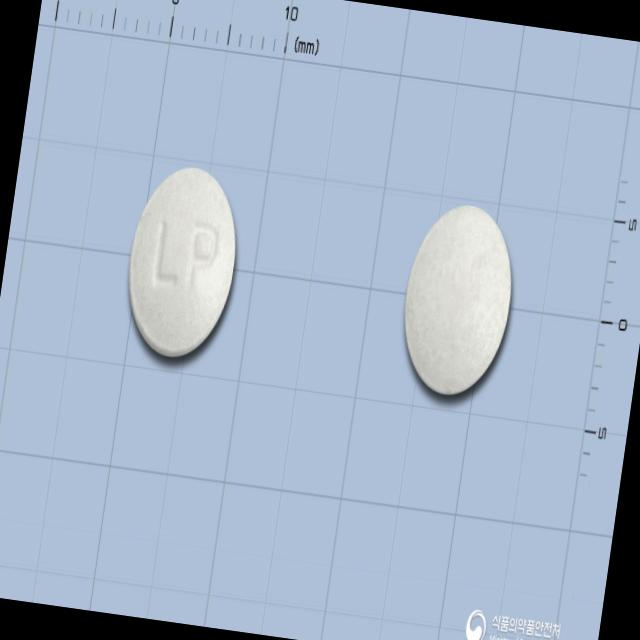Nofaxin Tab: (118, 160, 248, 366)
